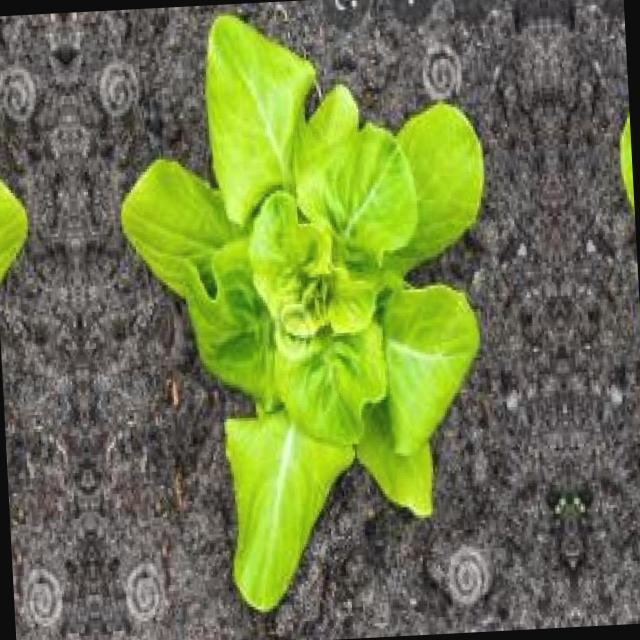healthy: (107, 0, 516, 621), (0, 20, 53, 627), (602, 0, 640, 595)
